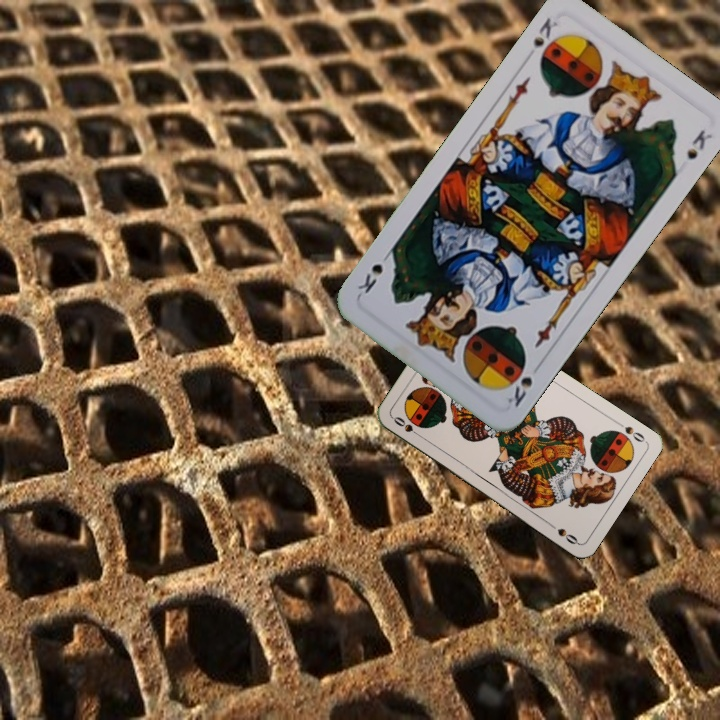SK: (523, 13, 561, 64), (503, 372, 535, 410)
SO: (389, 412, 425, 441), (612, 417, 648, 445)
